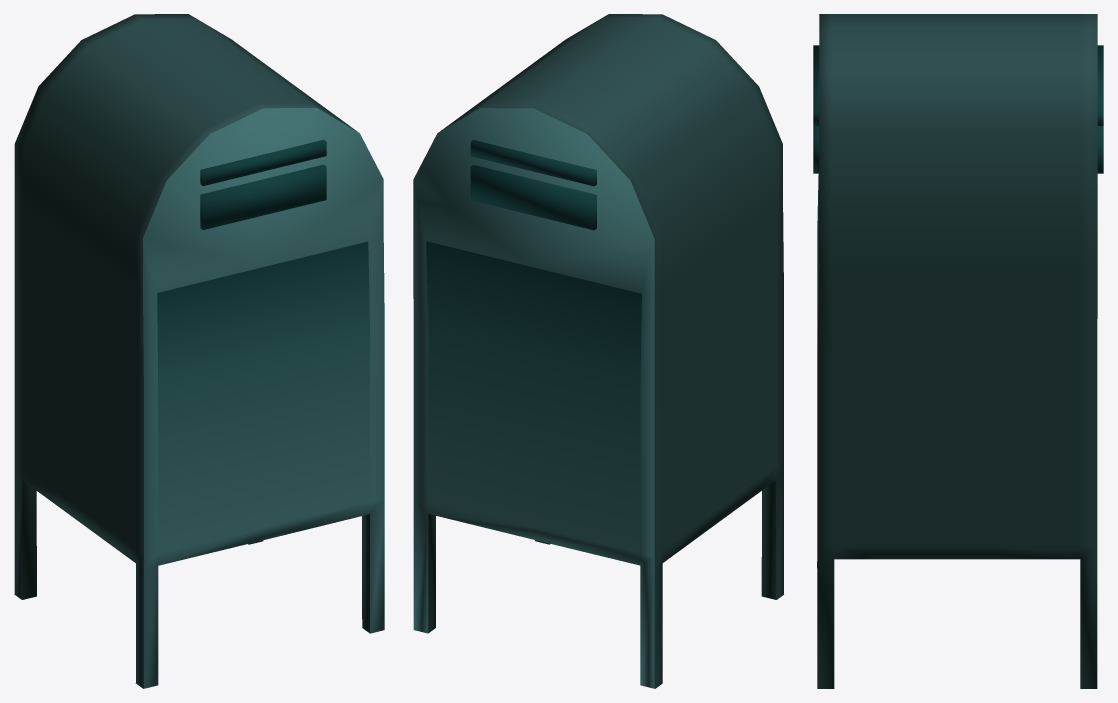
File: furnishings-outdoor-newspaperstand_v3.glb
3 views of the same model, side by side, from view 1: azimuth 30°, elevation 25°; view 2: azimuth 150°, elevation 25°; view 3: azimuth 270°, elevation 25° (orthographic). The views are drawn at different scales.
Visible parts, largest first — view 1: NewspaperStand_v3; view 2: NewspaperStand_v3; view 3: NewspaperStand_v3.
Boxes of the visible parts, x1,y1,x2,y2 form: NewspaperStand_v3: [14, 14, 384, 688]; NewspaperStand_v3: [413, 14, 783, 688]; NewspaperStand_v3: [813, 14, 1103, 688].
Size of the model in its own units: 0.4897 by 1.07 by 0.4705.
